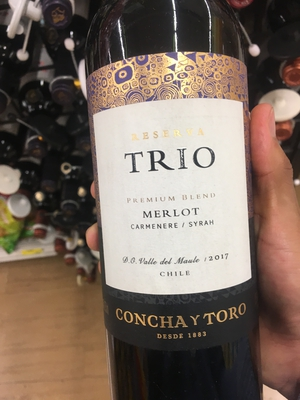trio merlot: (73, 2, 264, 400)
